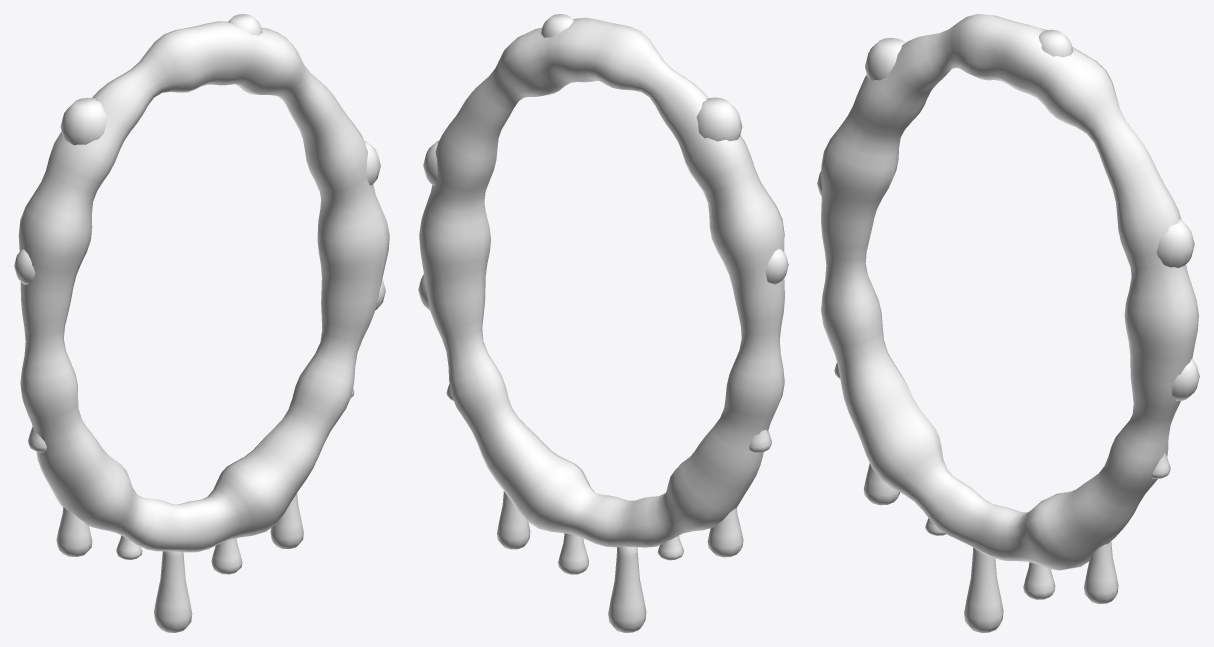
Rendered from AlienPortalRim.fbx.
The picture shows the model from 3 angles, left to right: view 1: azimuth 30°, elevation 25°; view 2: azimuth 150°, elevation 25°; view 3: azimuth 330°, elevation 25°; orthographic projection. The views are drawn at different scales.
Parts seen in each view (by area): view 1: AlienPortalRim; view 2: AlienPortalRim; view 3: AlienPortalRim.
Part boxes in pixels (x1,y1,x2,y2): AlienPortalRim: (14, 14, 389, 632); AlienPortalRim: (418, 14, 788, 632); AlienPortalRim: (817, 14, 1199, 632).
Bounding box in the file's own units: 7.03 × 10.99 × 1.26.
1 material, 1 textured.
